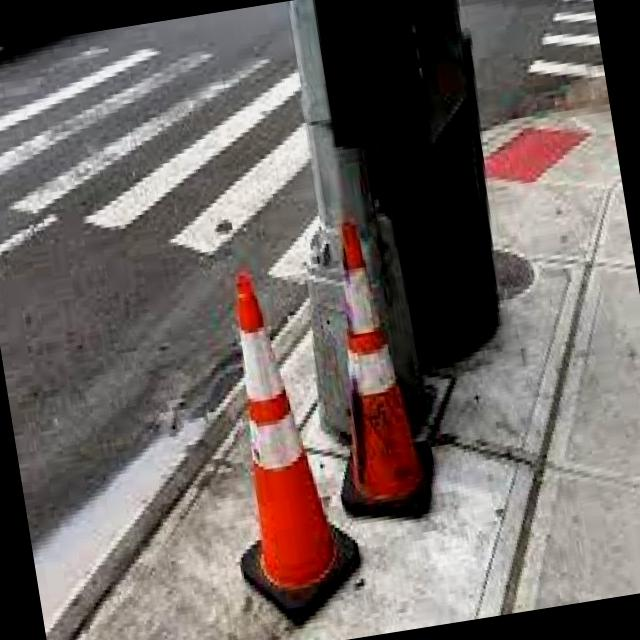Cone: (208, 265, 332, 589), (308, 215, 424, 503)
